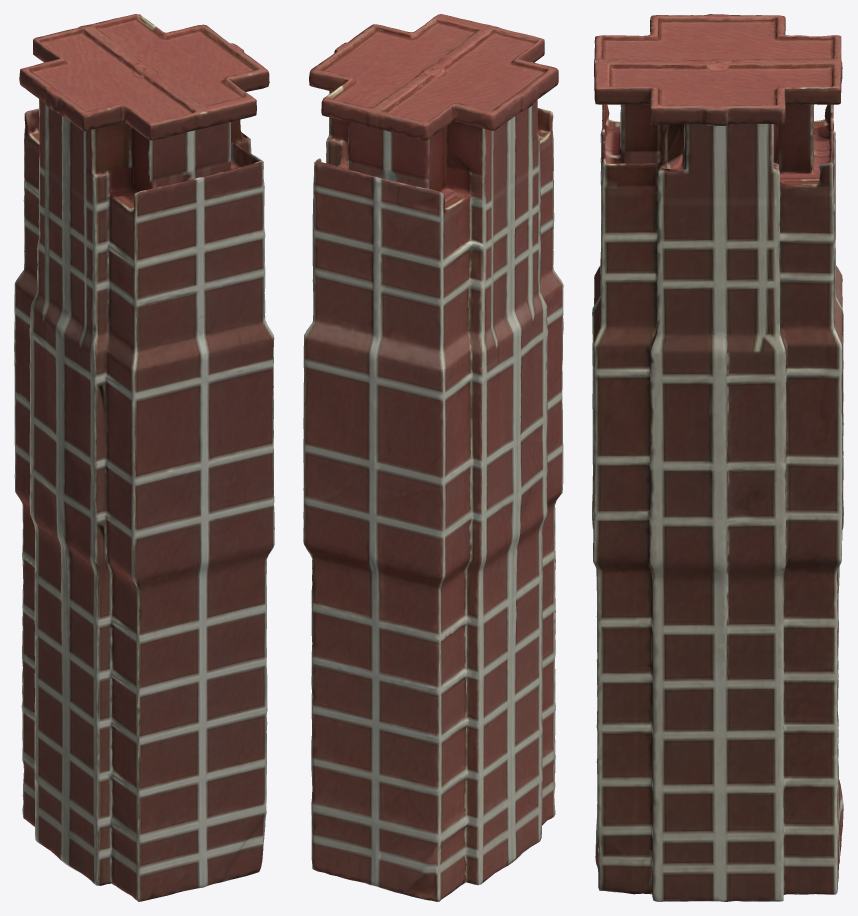
Rendered from 롯데_원경빌딩.glb.
The picture shows the model from 3 angles, left to right: view 1: azimuth 30°, elevation 25°; view 2: azimuth 150°, elevation 25°; view 3: azimuth 270°, elevation 25°; orthographic projection. The views are drawn at different scales.
Parts seen in each view (by area): view 1: texture_mapping; view 2: texture_mapping; view 3: texture_mapping.
Part boxes in pixels (left/top/right/bottom): texture_mapping: left=14, top=14, right=274, bottom=901; texture_mapping: left=303, top=14, right=563, bottom=901; texture_mapping: left=592, top=14, right=843, bottom=901.
Bounding box in the file's own units: 0.257 × 0.9998 × 0.2843.
Materials: 1 (1 with a texture image).
